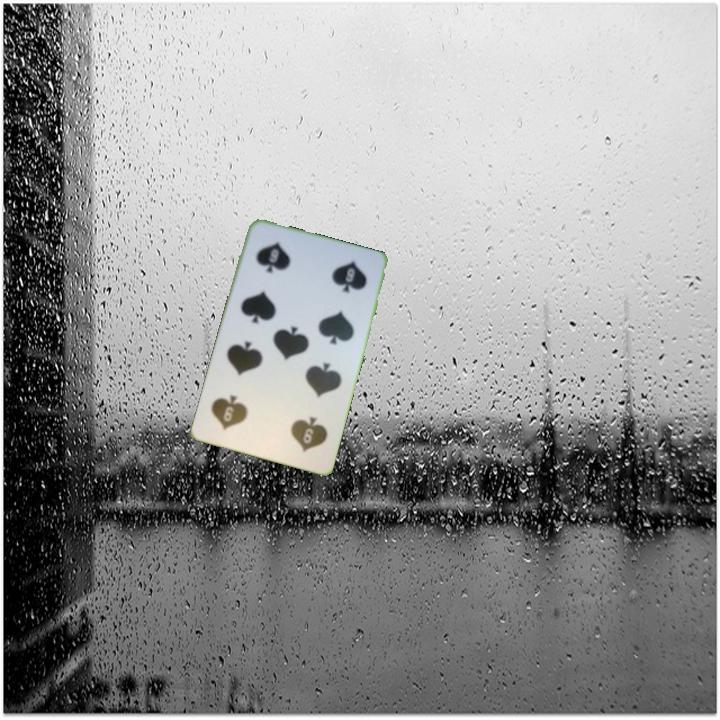s_9.png: (241, 228, 320, 300), (260, 392, 338, 464)
